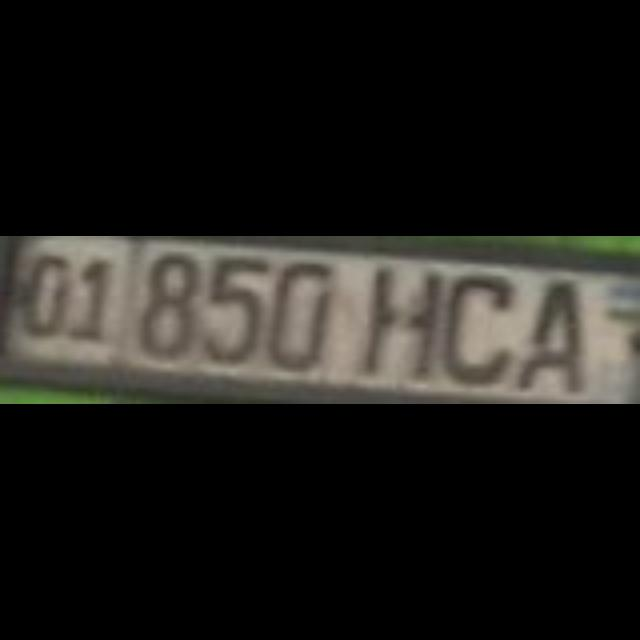0: (268, 256, 324, 364), (20, 252, 64, 332)
1: (68, 256, 108, 336)
5: (200, 252, 264, 360)
8: (136, 248, 196, 352)
A: (512, 276, 576, 384)
C: (440, 268, 504, 376)
H: (360, 264, 436, 372)
